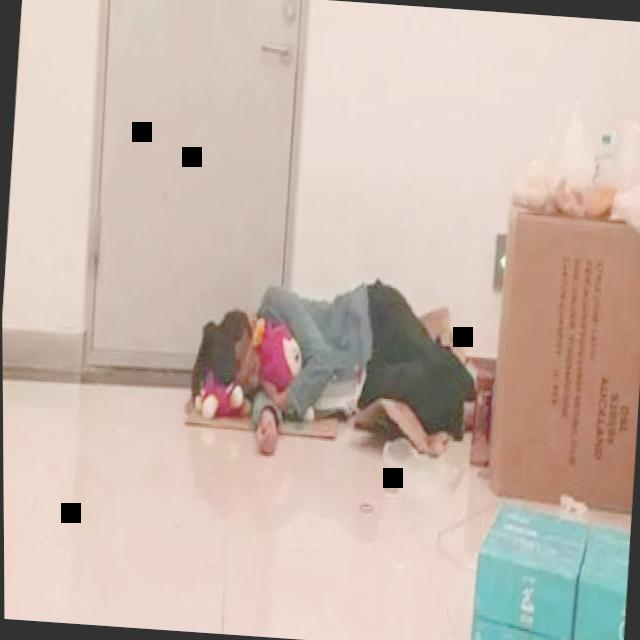Fall-Detected: (178, 248, 499, 467)
